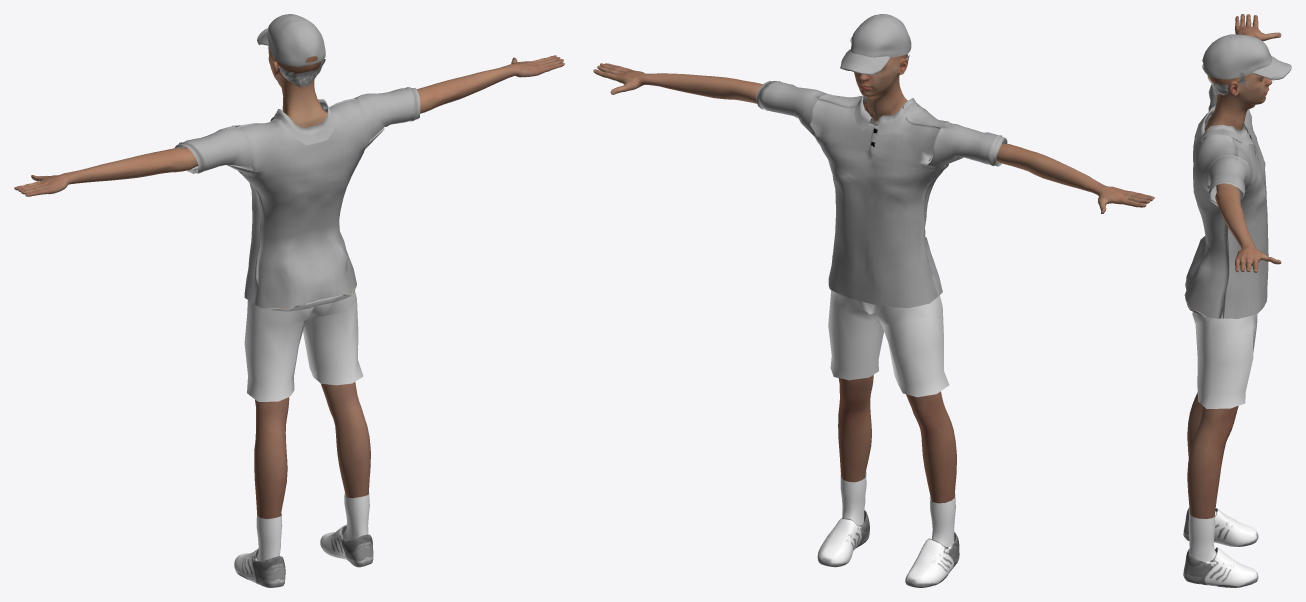
File: kind.glb
3 views of the same model, side by side, from view 1: azimuth 30°, elevation 25°; view 2: azimuth 150°, elevation 25°; view 3: azimuth 270°, elevation 25° (orthographic). The views are drawn at different scales.
Parts seen in each view (by area): view 1: mensch; view 2: mensch; view 3: mensch.
Part boxes in pixels (left/top/right/bottom): mensch: left=14, top=14, right=564, bottom=587; mensch: left=593, top=14, right=1154, bottom=587; mensch: left=1183, top=14, right=1291, bottom=587.
Bounding box in the file's own units: 1.83 × 1.75 × 0.3265.
1 material, 1 textured.
